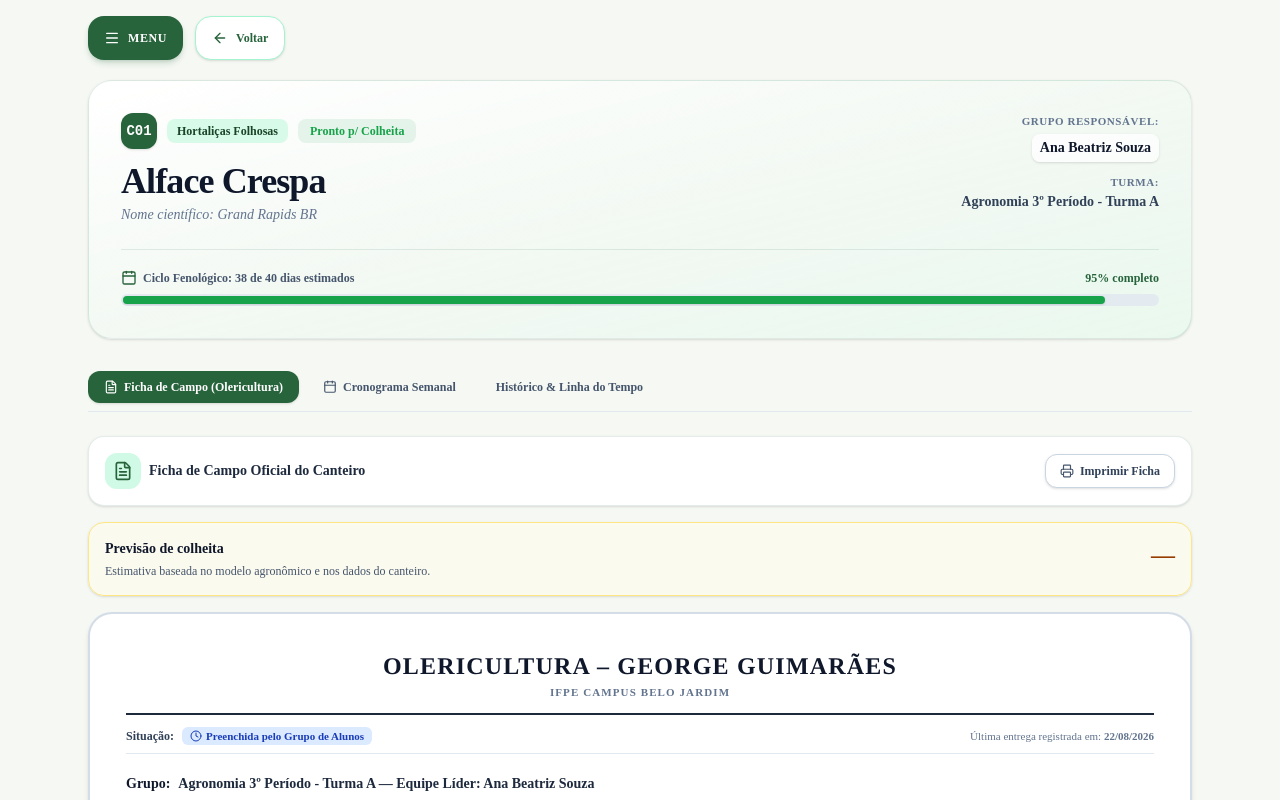
Test: CanteiroDetailPage › deve exibir o botão de menu, o botão de voltar no topo e o card da equipe responsável no hero
Check: the button "Voltar" is shown, box 195,16 -> 285,60
Check: the text "Grupo Responsável:" is shown, box 1022,115 -> 1159,127
Abrir o menu lateral
Click the button "Menu" at x=136, y=38, box 88,16 -> 183,60
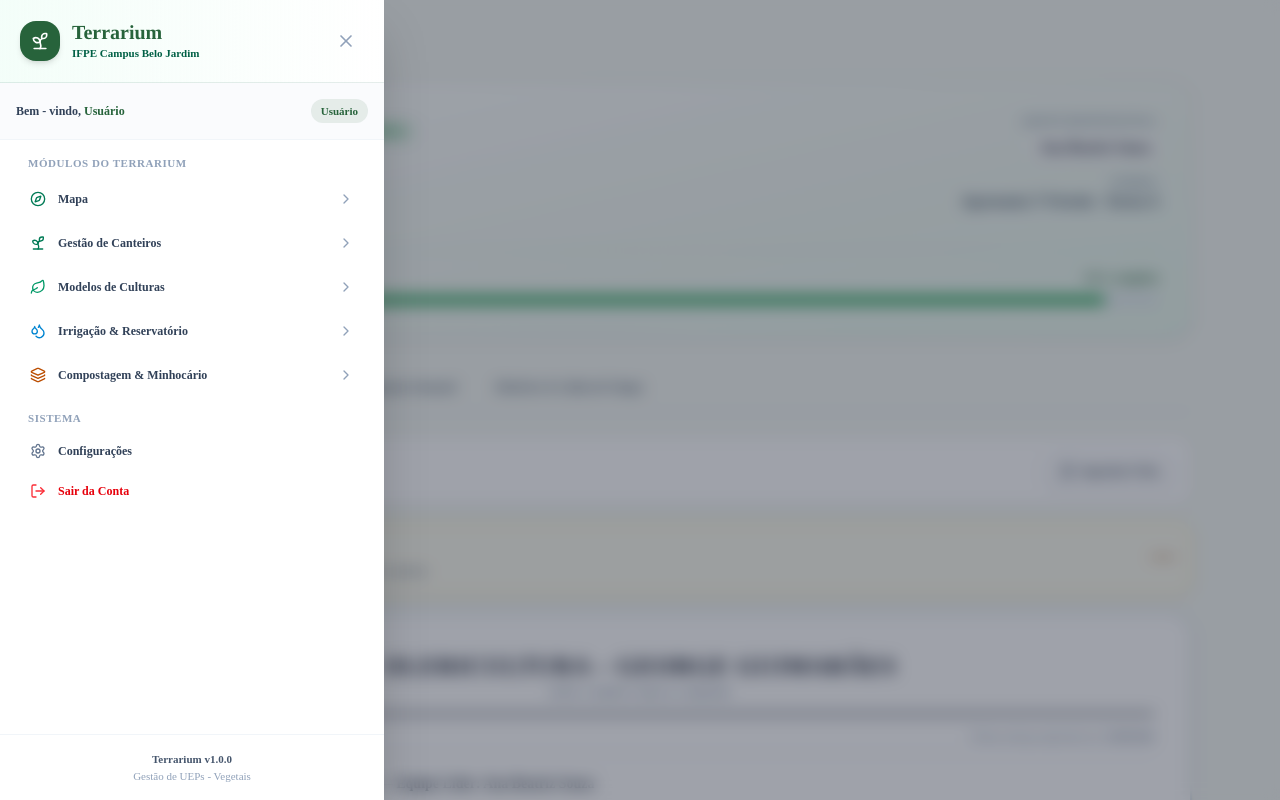
Check: the text "Módulos do Terrarium" is shown, box 28,157 -> 187,169
